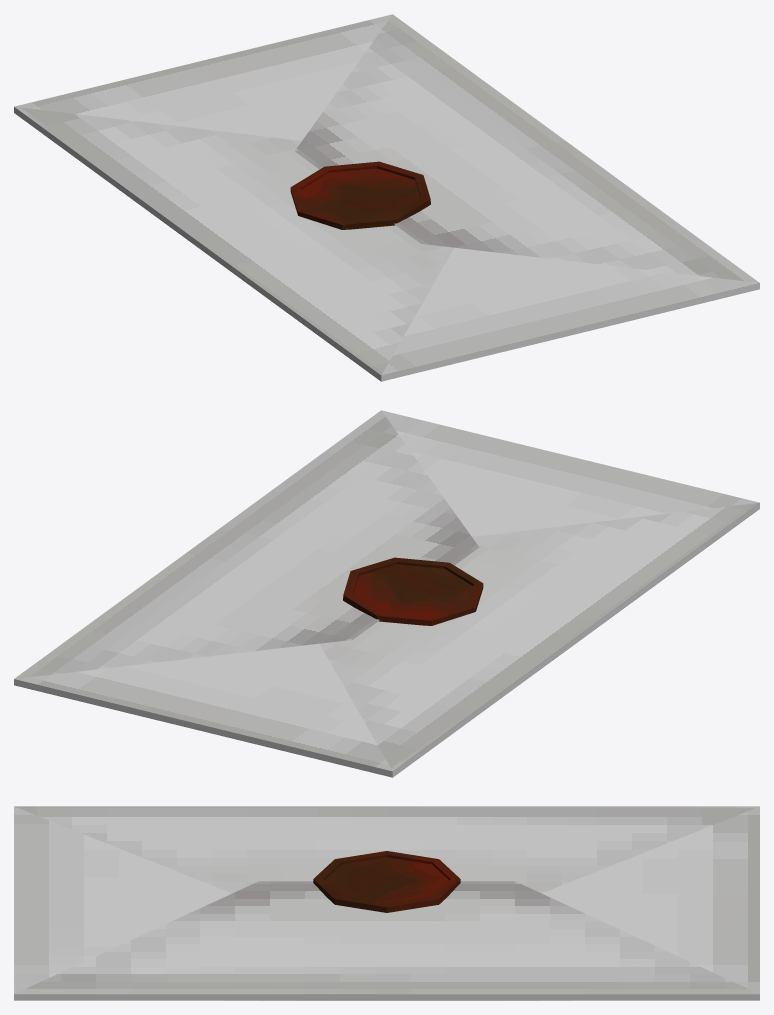
The model's file is Envelope.fbx.
3 renders of one model, top to bottom at view 1: azimuth 30°, elevation 25°; view 2: azimuth 150°, elevation 25°; view 3: azimuth 270°, elevation 25°, orthographic.
Visible parts, largest first — view 1: Cube, Cylinder.001; view 2: Cube, Cylinder.001; view 3: Cube, Cylinder.001.
Boxes of the visible parts, left/top/right/bottom form: Cube: left=14, top=14, right=759, bottom=381; Cylinder.001: left=290, top=161, right=430, bottom=229; Cube: left=14, top=410, right=759, bottom=777; Cylinder.001: left=343, top=557, right=483, bottom=625; Cube: left=14, top=806, right=759, bottom=1000; Cylinder.001: left=313, top=851, right=460, bottom=912.
Bounding box in the file's own units: 88.68 × 3.85 × 149.
2 materials, 2 textured.
